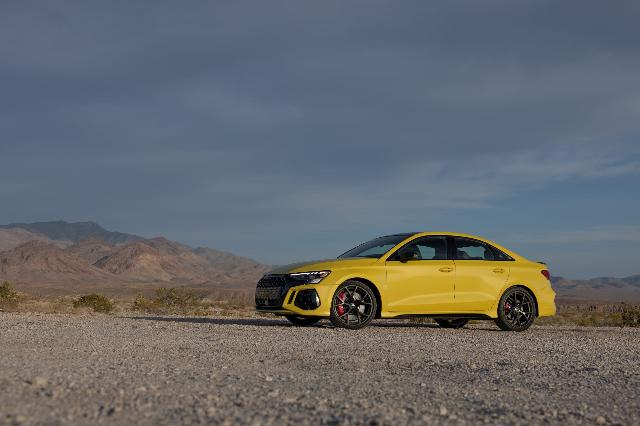audi: (255, 232, 558, 332)
